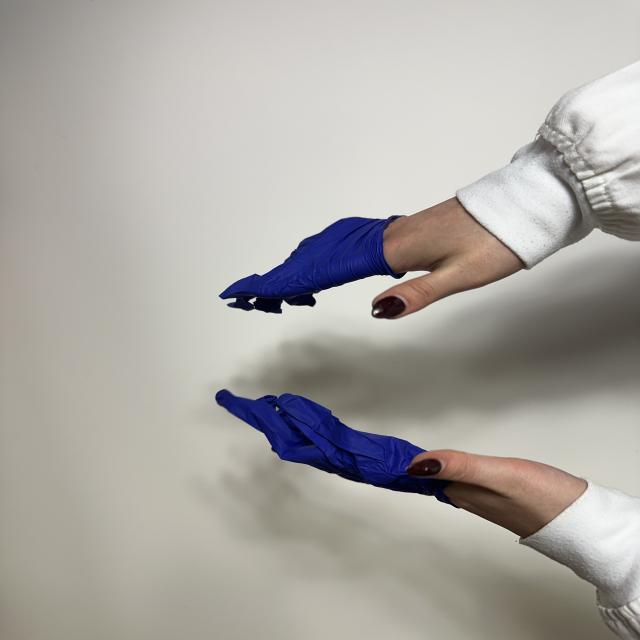glove_partial: (216, 390, 587, 537), (223, 198, 523, 318)
